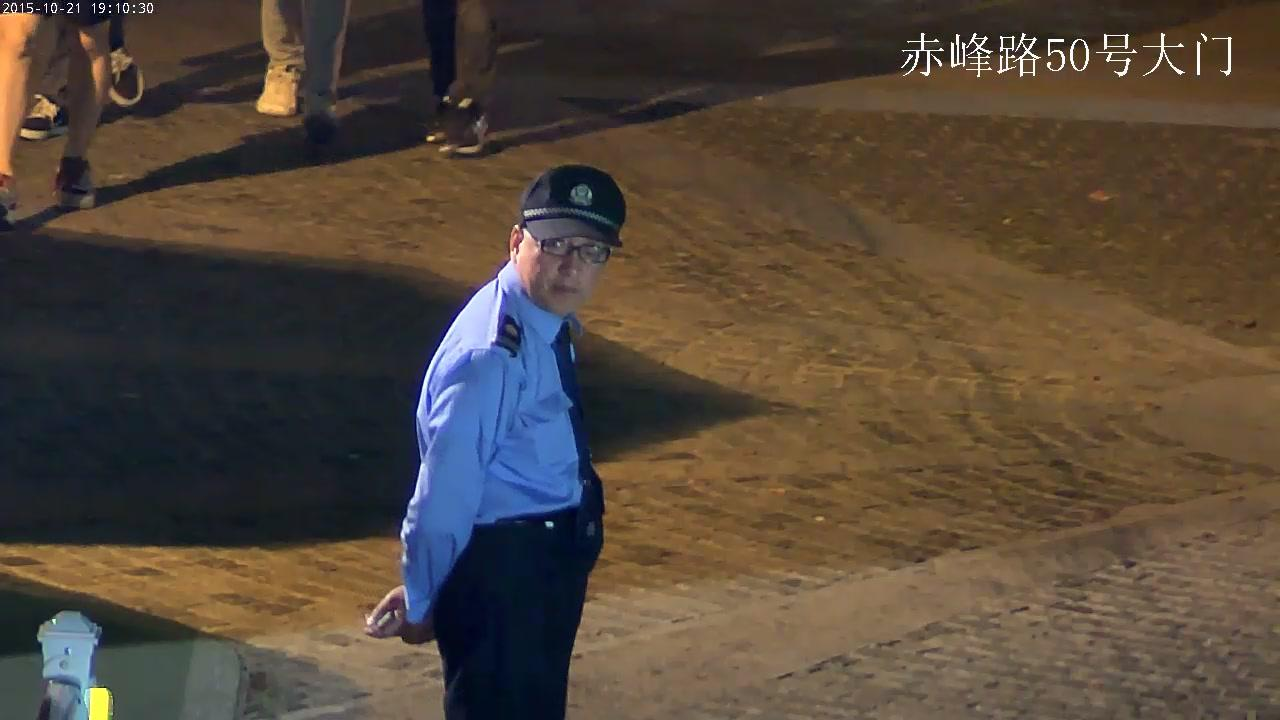person: (363, 164, 628, 720), (0, 0, 110, 227)
